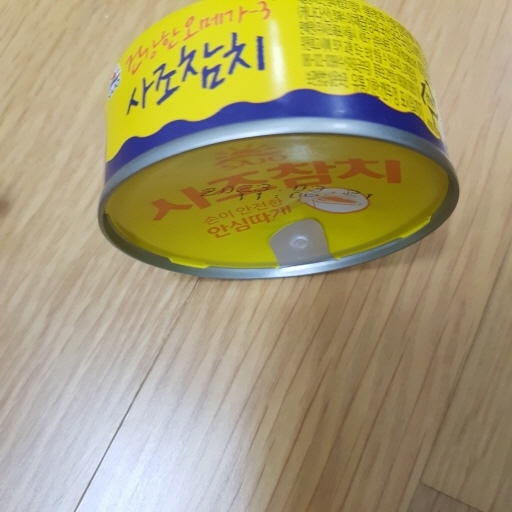Metal_1: (101, 1, 463, 281)
